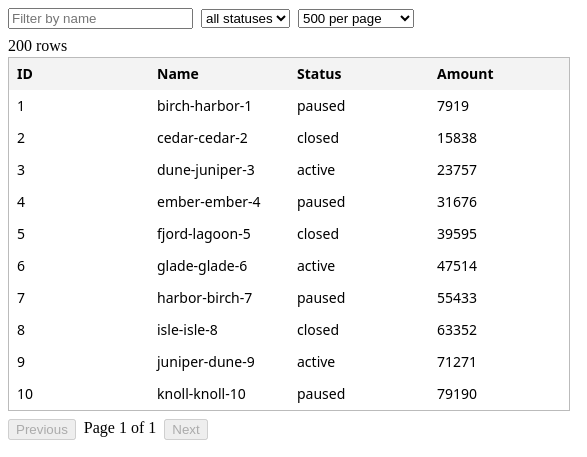
it: editing against the mock server › a refused edit shows at once and is undone with a message
Later steps or results of the test are not shown.
Expected: the text "200 rows" is shown, [8,37,67,54]
Click the cell "birch-harbor-1": (205, 106) [157,96,252,115]
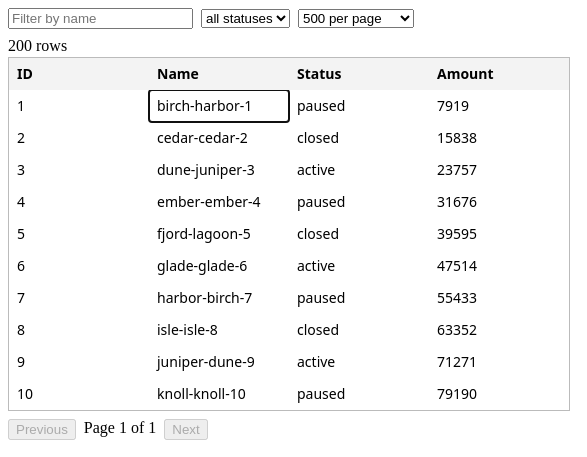
Press Enter
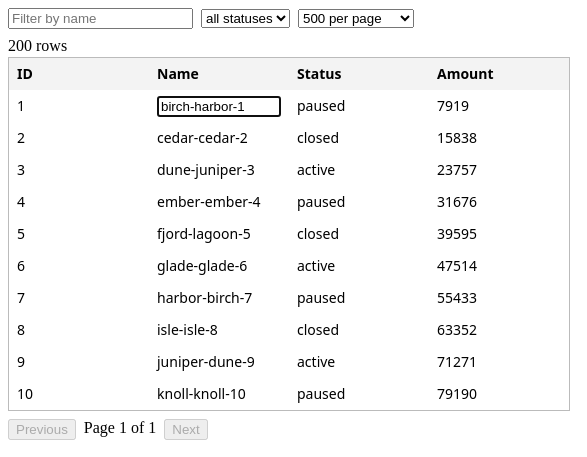
Replace the text in the field named "Name for row 1" with "FAIL me": (219, 106) [157,96,281,117]
Then press Enter
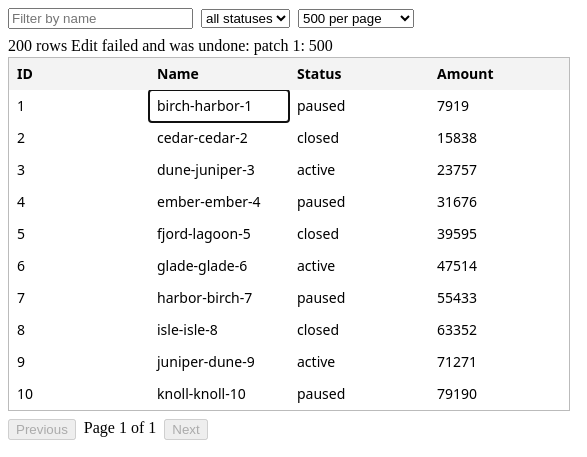
Now the text "200 rows Edit failed and was undone: patch 1: 500" is shown, box [8,37,333,54]
